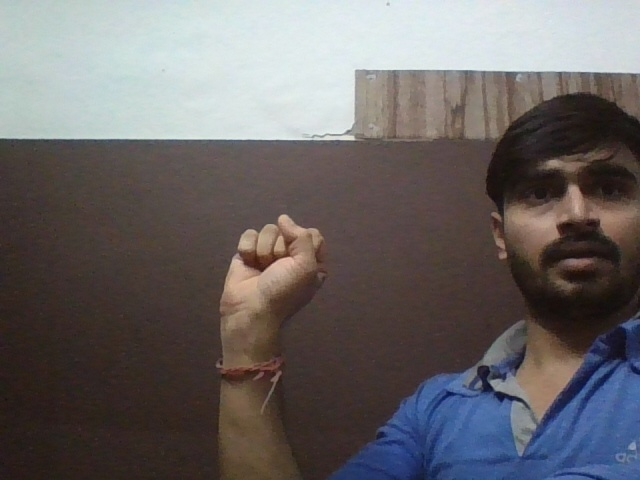S: (214, 201, 330, 351)
